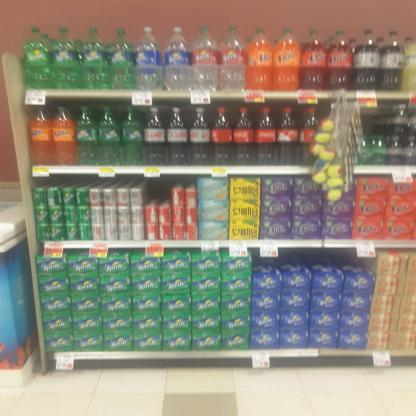Void: (260, 248, 371, 270), (41, 175, 135, 186), (141, 175, 173, 205)
